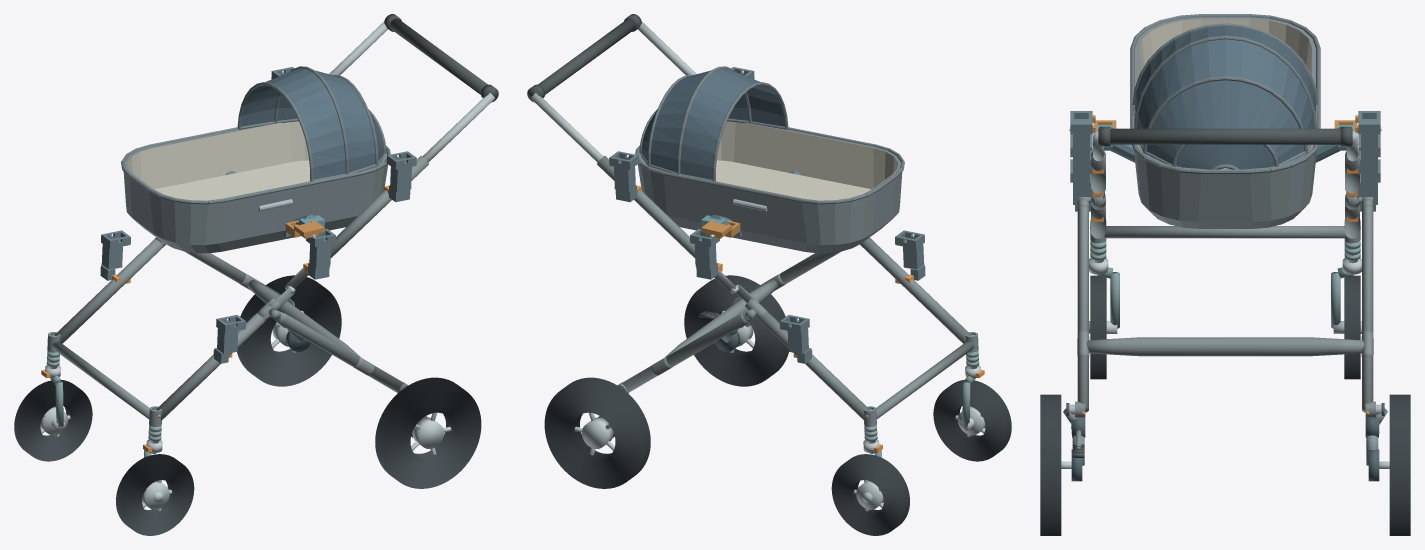
Rendered from S06_w650_state1_wheel_M.glb.
The picture shows the model from 3 angles, left to right: view 1: azimuth 30°, elevation 25°; view 2: azimuth 150°, elevation 25°; view 3: azimuth 270°, elevation 25°; orthographic projection. The views are drawn at different scales.
Visible parts, largest first — view 1: S06_Cabin, RL_tire.008, RR_tire.008, FL_tire.008, FR_tire.008, main_lower_1.009, round_handle.008, V46_rear_leg_-1.009, main_lower_-1.009, front_fixed_round_tube.008, main_upper_-1.009, Universal_Cabin_Receiver_H_-1 (+8 smaller); view 2: S06_Cabin, RR_tire.008, RL_tire.008, FR_tire.008, FL_tire.008, main_lower_-1.009, round_handle.008, V46_rear_leg_1.009, main_lower_1.009, front_fixed_round_tube.008, main_upper_1.009, Universal_Cabin_Receiver_H_1 (+8 smaller); view 3: S06_Cabin, V46_rearbar.009, round_handle.008, RL_tire.008, RR_tire.008, front_fixed_round_tube.008, V46_rear_leg_1.009, V46_rear_leg_-1.009, FL_tire.008, FR_tire.008, Universal_Cabin_Receiver_H_1, Universal_Cabin_Receiver_H_-1 (+7 smaller).
Part boxes in pixels (x1,y1,x2,y2): S06_Cabin: (121, 66, 390, 253); RL_tire.008: (375, 377, 481, 488); RR_tire.008: (237, 275, 341, 386); FL_tire.008: (116, 454, 194, 535); FR_tire.008: (14, 380, 92, 461); main_lower_1.009: (54, 239, 164, 343); round_handle.008: (389, 18, 497, 100); V46_rear_leg_-1.009: (277, 313, 403, 392); main_lower_-1.009: (156, 313, 268, 420); front_fixed_round_tube.008: (52, 341, 149, 419); main_upper_-1.009: (308, 156, 428, 264); Universal_Cabin_Receiver_H_-1: (386, 151, 416, 202); S06_Cabin: (635, 66, 904, 253); RR_tire.008: (544, 377, 650, 488); RL_tire.008: (684, 275, 788, 386); FR_tire.008: (831, 454, 909, 535); FL_tire.008: (933, 380, 1011, 461); main_lower_-1.009: (861, 239, 971, 343); round_handle.008: (528, 18, 636, 100); V46_rear_leg_1.009: (622, 313, 748, 392); main_lower_1.009: (757, 313, 869, 420); front_fixed_round_tube.008: (876, 341, 973, 419); main_upper_1.009: (597, 156, 717, 264); Universal_Cabin_Receiver_H_1: (609, 151, 639, 202); S06_Cabin: (1130, 14, 1320, 228); V46_rearbar.009: (1086, 337, 1364, 356); round_handle.008: (1098, 128, 1352, 144); RL_tire.008: (1040, 394, 1061, 535); RR_tire.008: (1389, 394, 1410, 535); front_fixed_round_tube.008: (1104, 226, 1346, 238); V46_rear_leg_1.009: (1362, 204, 1373, 412); V46_rear_leg_-1.009: (1077, 204, 1088, 412); FL_tire.008: (1090, 275, 1106, 379); FR_tire.008: (1344, 275, 1360, 379); Universal_Cabin_Receiver_H_1: (1358, 111, 1380, 173); Universal_Cabin_Receiver_H_-1: (1070, 111, 1092, 173).
Size of the model in its own units: 1.16 by 1.09 by 0.7871.
